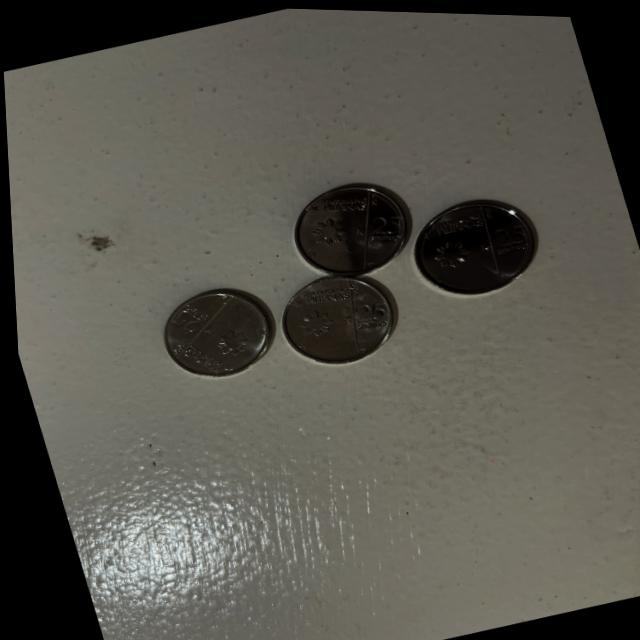25Cent_New_Front: (149, 291, 211, 341), (480, 210, 532, 260), (359, 203, 409, 246), (348, 289, 390, 335)
